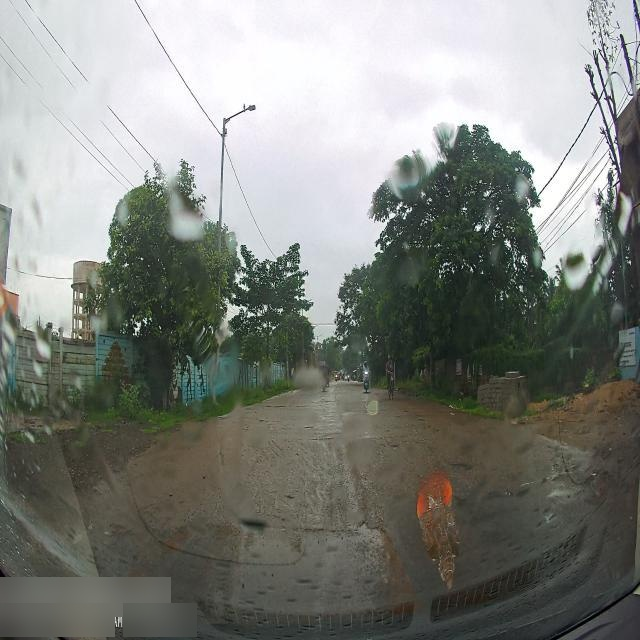pothole: (355, 524, 413, 602), (262, 400, 310, 412), (308, 432, 338, 444), (300, 416, 318, 432), (212, 414, 234, 422), (245, 405, 258, 413)
